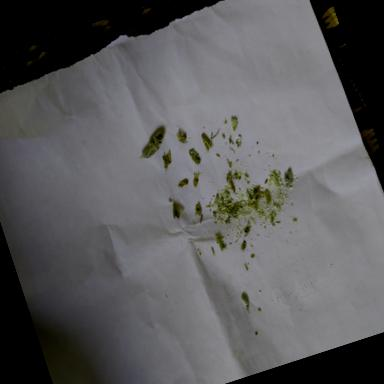pbw: (133, 128, 170, 160), (186, 144, 202, 166), (200, 132, 214, 152), (169, 201, 183, 221), (188, 168, 203, 186), (176, 177, 190, 190)
